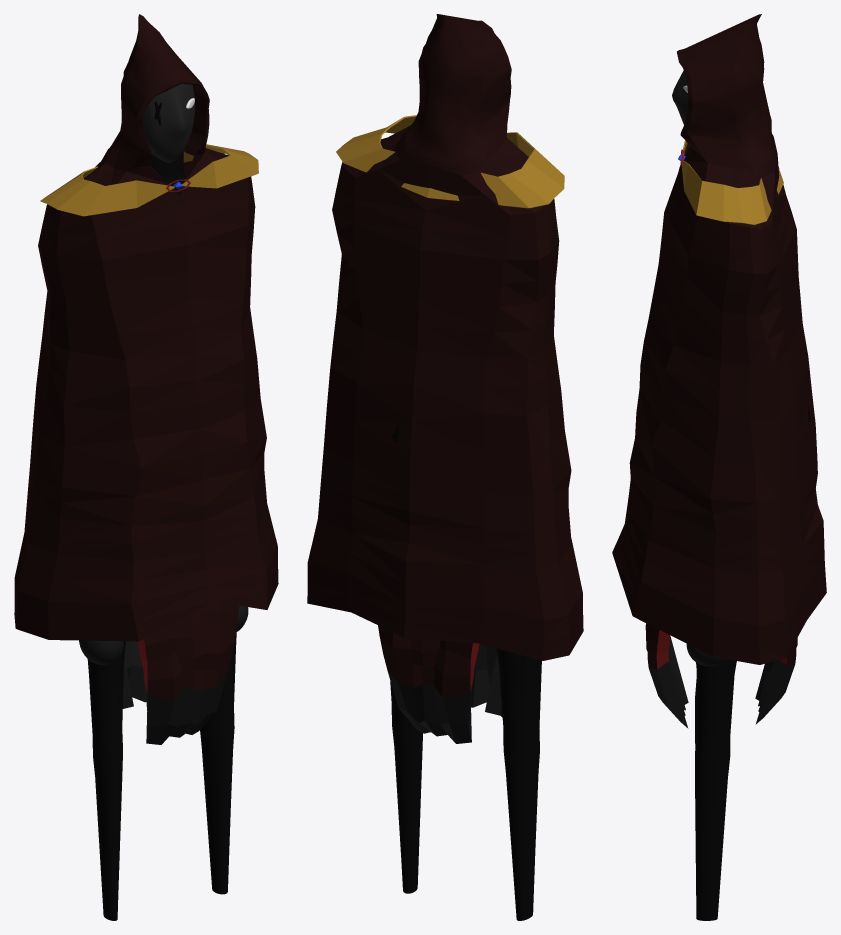
Rendered from mavrick 1.FBX.
3 renders of one model, left to right at view 1: azimuth 30°, elevation 25°; view 2: azimuth 150°, elevation 25°; view 3: azimuth 270°, elevation 25°, orthographic. The views are drawn at different scales.
Parts seen in each view (by area): view 1: HOOD005, CLOTH FRONT006, LEG L020, mavric v1 001, LEG L019, FACE005, CLOTH FRONT007, Sphere004, NECK005; view 2: HOOD005, LEG L020, CLOTH FRONT007, mavric v1 001, LEG L019, CLOTH FRONT006; view 3: HOOD005, LEG L019, mavric v1 001, CLOTH FRONT006, CLOTH FRONT007, FACE005, Sphere003.
Part boxes in pixels (bbox=[...]): HOOD005: bbox=[14, 14, 278, 641]; CLOTH FRONT006: bbox=[137, 601, 239, 744]; LEG L020: bbox=[87, 641, 125, 920]; mavric v1 001: bbox=[40, 144, 258, 216]; LEG L019: bbox=[200, 632, 236, 894]; FACE005: bbox=[142, 84, 195, 162]; CLOTH FRONT007: bbox=[122, 641, 146, 708]; Sphere004: bbox=[79, 640, 123, 664]; NECK005: bbox=[151, 151, 183, 180]; HOOD005: bbox=[307, 14, 583, 660]; LEG L020: bbox=[497, 648, 541, 920]; CLOTH FRONT007: bbox=[378, 625, 479, 743]; mavric v1 001: bbox=[336, 115, 564, 441]; LEG L019: bbox=[390, 681, 422, 893]; CLOTH FRONT006: bbox=[471, 644, 502, 717]; HOOD005: bbox=[612, 14, 826, 664]; LEG L019: bbox=[695, 660, 736, 920]; mavric v1 001: bbox=[681, 140, 810, 421]; CLOTH FRONT006: bbox=[645, 623, 688, 728]; CLOTH FRONT007: bbox=[755, 637, 797, 724]; FACE005: bbox=[672, 70, 688, 124]; Sphere003: bbox=[686, 644, 729, 666].
Bounding box in the file's own units: 619 × 2064 × 457.
